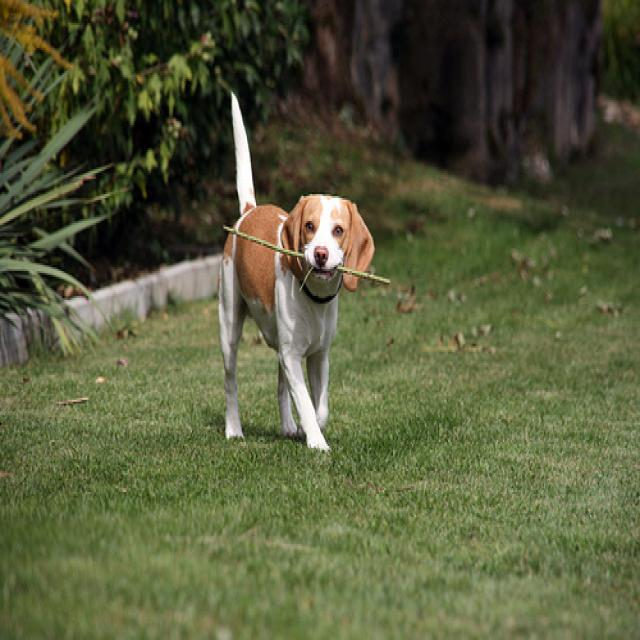dog-beagle: (214, 83, 387, 459)
